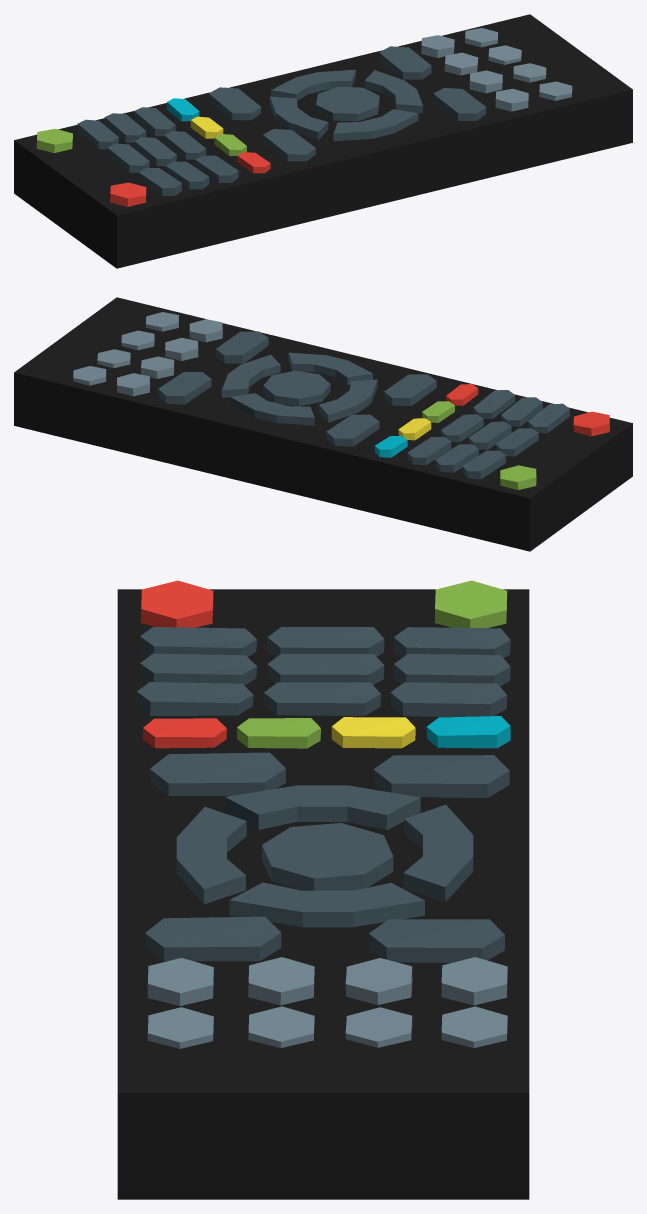
File: TV_Remote.obj
The picture shows the model from 3 angles, top to bottom: view 1: azimuth 30°, elevation 25°; view 2: azimuth 150°, elevation 25°; view 3: azimuth 270°, elevation 25°; orthographic projection. The views are drawn at different scales.
Parts seen in each view (by area): view 1: group1999592679, group990673373, group155187883, group1981639585, group456129434, group128561982, group451507154, group1956385773, group82755036, group594652875, group1368909834, group2045069191 (+13 smaller); view 2: group1999592679, group990673373, group155187883, group1981639585, group456129434, group128561982, group1956385773, group451507154, group82755036, group594652875, group1368909834, group2045069191 (+13 smaller); view 3: group1999592679, group990673373, group1981639585, group155187883, group456129434, group128561982, group82755036, group594652875, group1368909834, group2045069191, group451507154, group1956385773 (+13 smaller).
Part boxes in pixels (x1,y1,x2,y2): group1999592679: (14,14,632,268); group990673373: (379,46,486,120); group155187883: (77,119,181,195); group1981639585: (104,113,209,189); group456129434: (465,28,572,100); group128561982: (316,87,379,121); group451507154: (333,109,418,141); group1956385773: (271,69,355,100); group82755036: (270,96,328,139); group594652875: (364,70,422,113); group1368909834: (208,87,261,120); group2045069191: (262,129,315,161); group1999592679: (14,297,632,551); group990673373: (158,331,268,404); group155187883: (462,403,569,479); group1981639585: (435,397,542,472); group456129434: (73,312,178,385); group128561982: (263,370,330,406); group1956385773: (230,393,314,425); group451507154: (288,352,372,384); group82755036: (318,379,377,422); group594652875: (221,354,280,397); group1368909834: (326,414,379,446); group2045069191: (384,374,436,406); group1999592679: (117,589,529,1199); group990673373: (145,916,504,962); group1981639585: (139,653,510,686); group155187883: (139,627,510,657); group456129434: (147,1006,507,1048); group128561982: (262,823,393,890); group82755036: (225,785,420,830); group594652875: (229,882,424,927); group1368909834: (373,755,509,797); group2045069191: (149,752,285,795); group451507154: (176,807,246,904); group1956385773: (403,804,473,902).
Bounding box in the file's own units: 1.42 × 0.1629 × 0.49.
